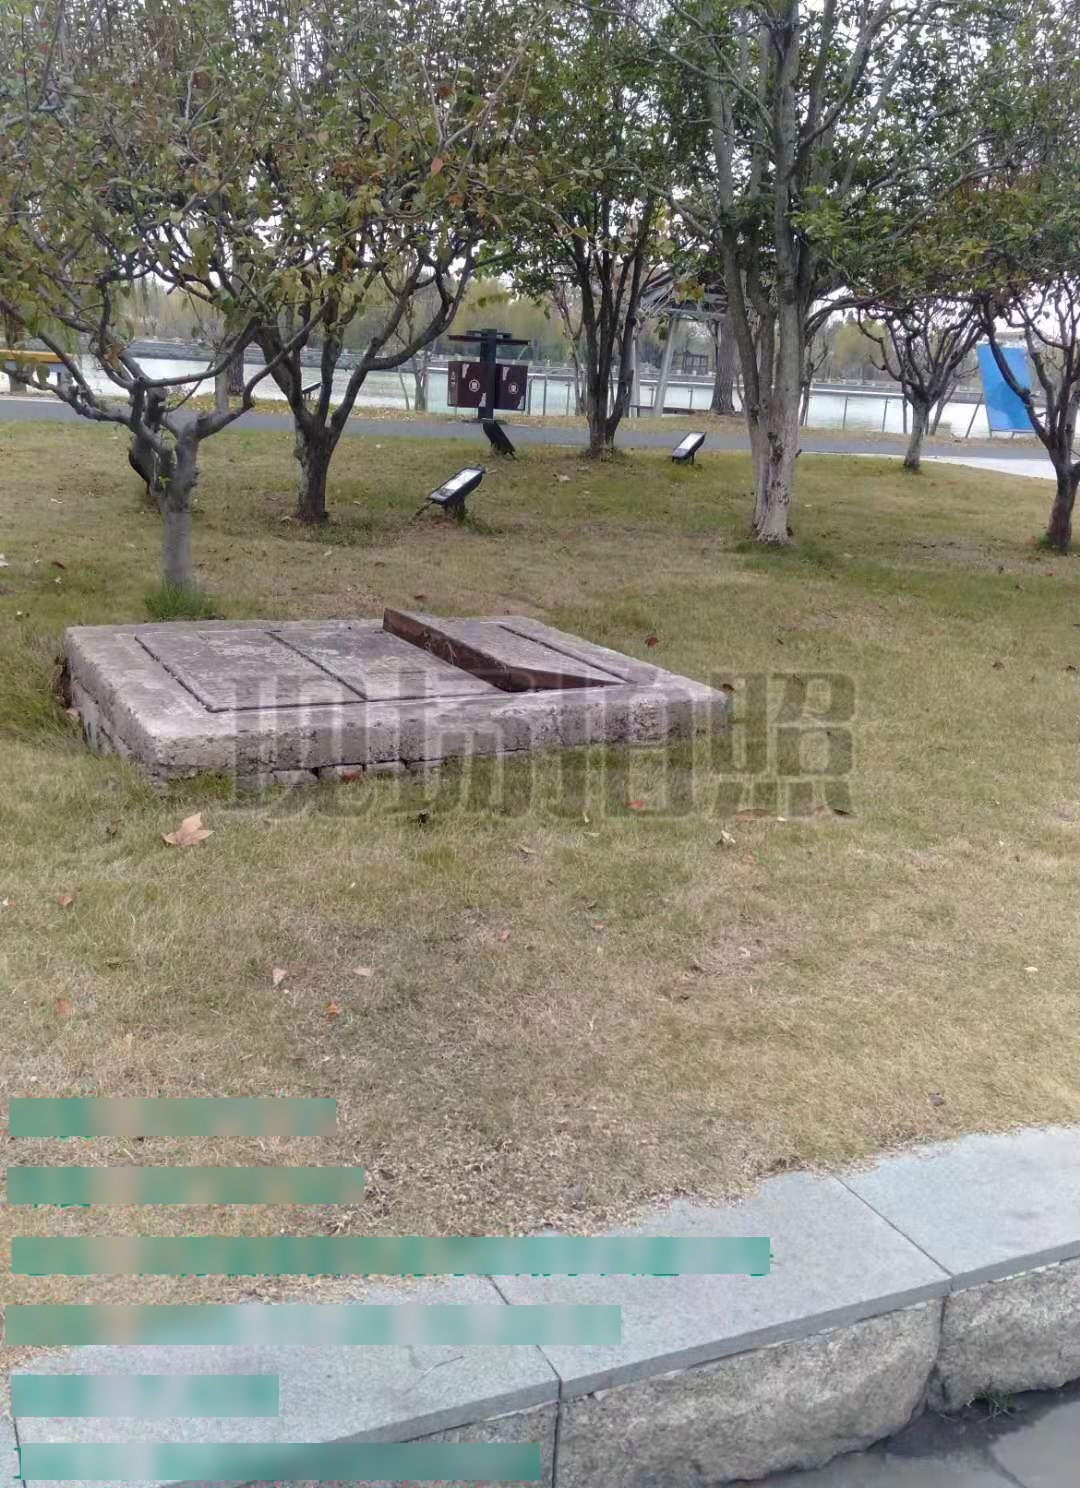well: (87, 605, 628, 732)
